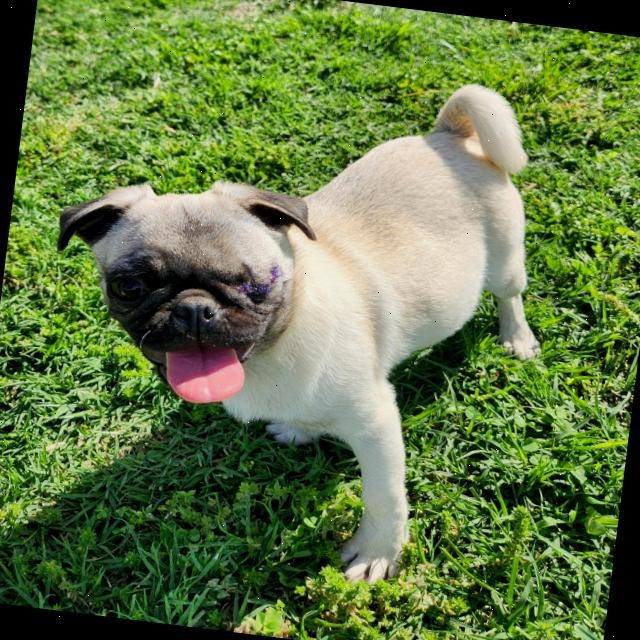pug_dog: (20, 148, 334, 428)
